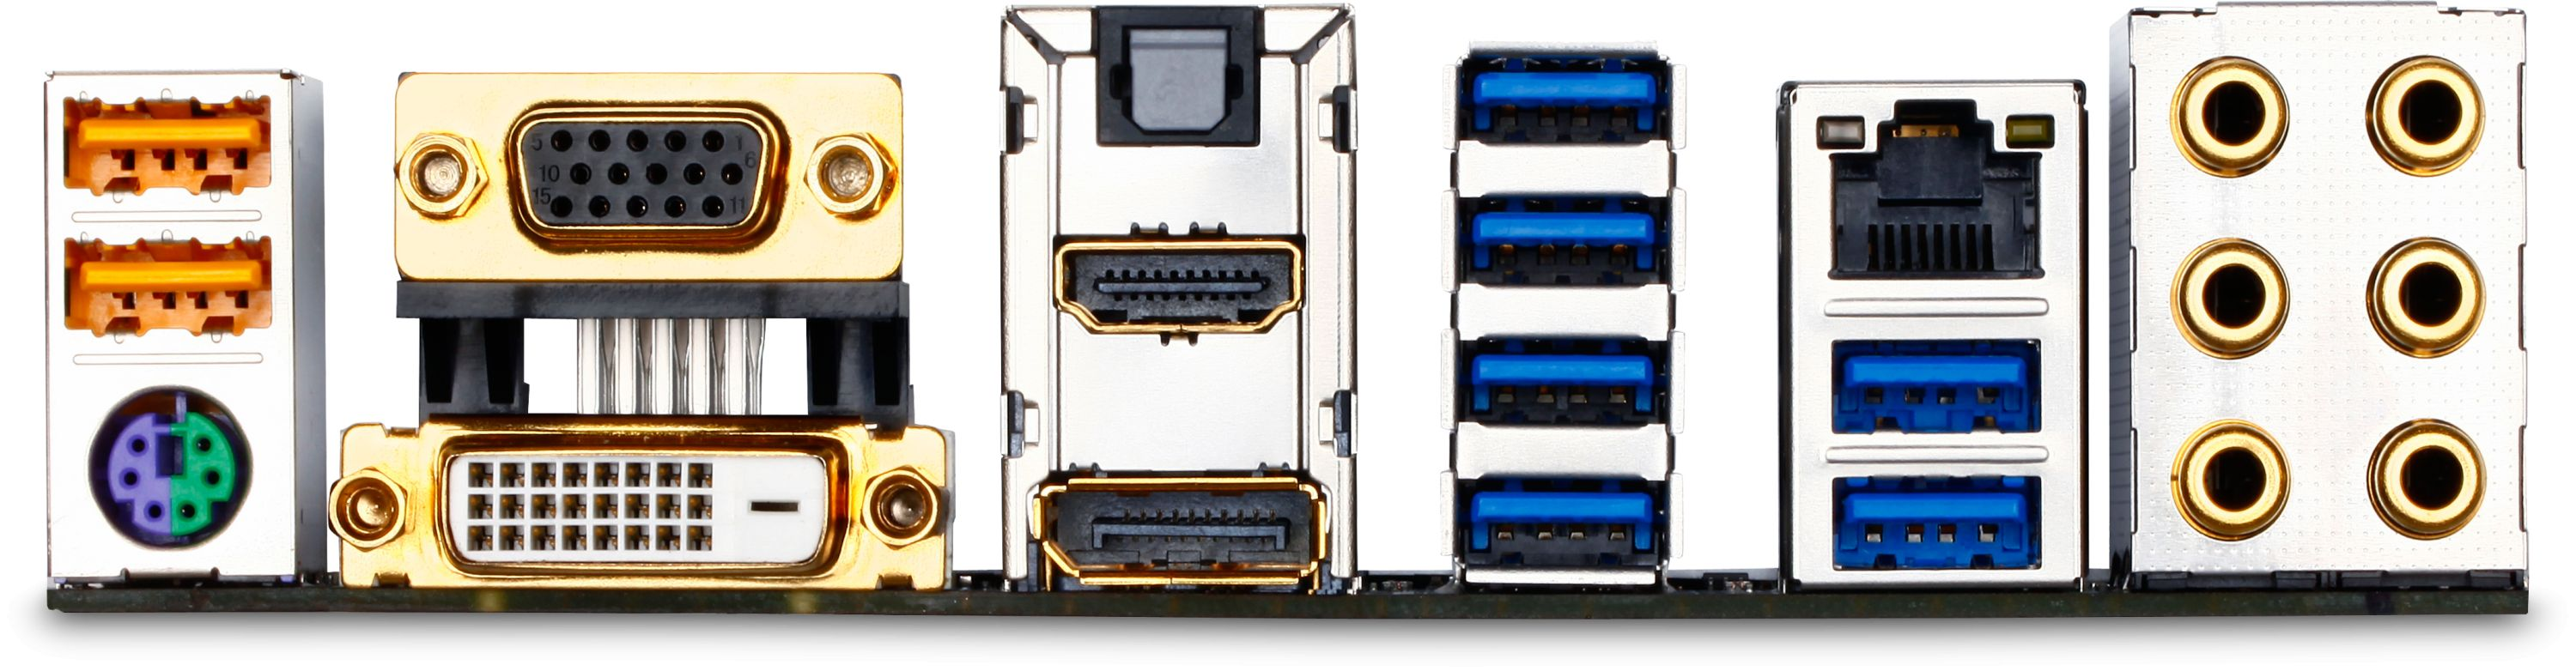Audio: (2164, 221, 2293, 367), (2366, 225, 2494, 364), (2357, 410, 2491, 543), (2175, 39, 2297, 176), (2175, 407, 2297, 541), (2369, 43, 2491, 176)
DVI: (434, 431, 858, 574)
Ethernet: (1810, 85, 2075, 307)
HDMI: (1048, 225, 1313, 343)
USB: (1804, 325, 2067, 456), (54, 79, 292, 203), (1810, 471, 2068, 581), (49, 228, 289, 343), (1442, 192, 1686, 294), (1436, 43, 1689, 139), (1446, 468, 1682, 571), (1446, 343, 1689, 435)
VGA: (498, 90, 798, 253)
